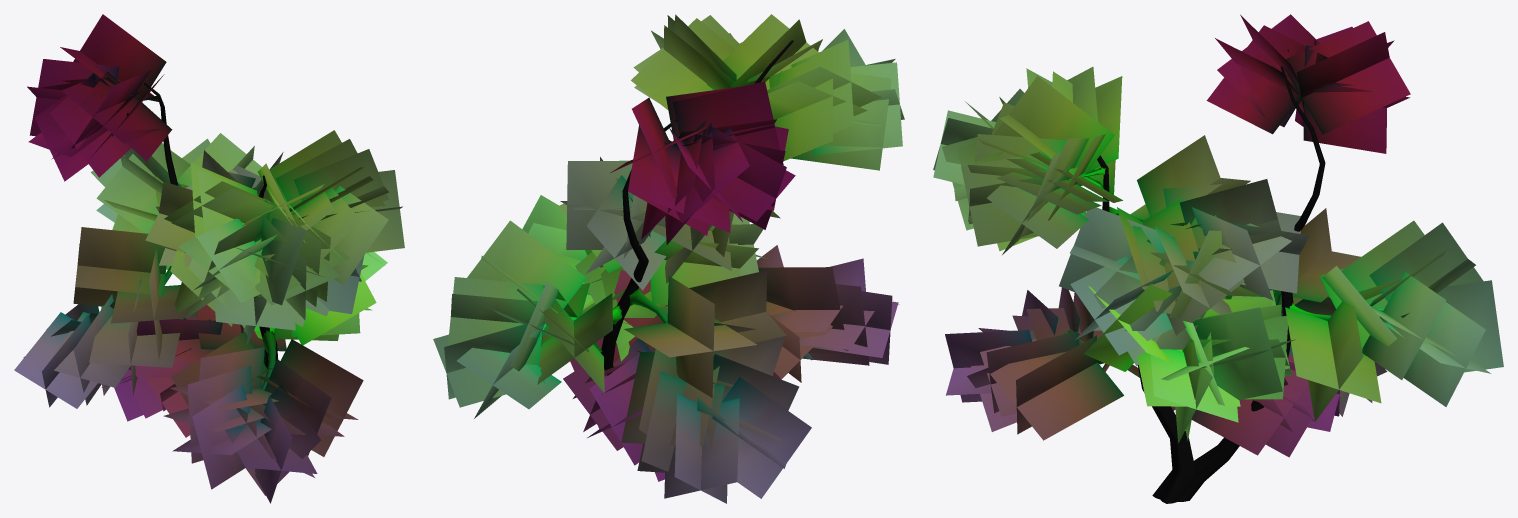
File: URP_P14_Tree_10_LOD_1.fbx
3 renders of one model, left to right at view 1: azimuth 30°, elevation 25°; view 2: azimuth 150°, elevation 25°; view 3: azimuth 270°, elevation 25°, orthographic. The views are drawn at different scales.
Parts seen in each view (by area): view 1: Tree_10_LOD_1; view 2: Tree_10_LOD_1; view 3: Tree_10_LOD_1.
Part boxes in pixels (x1,y1,x2,y2): Tree_10_LOD_1: (14, 14, 404, 503); Tree_10_LOD_1: (433, 14, 904, 503); Tree_10_LOD_1: (933, 14, 1503, 503).
Bounding box in the file's own units: 385 × 462 × 566.
